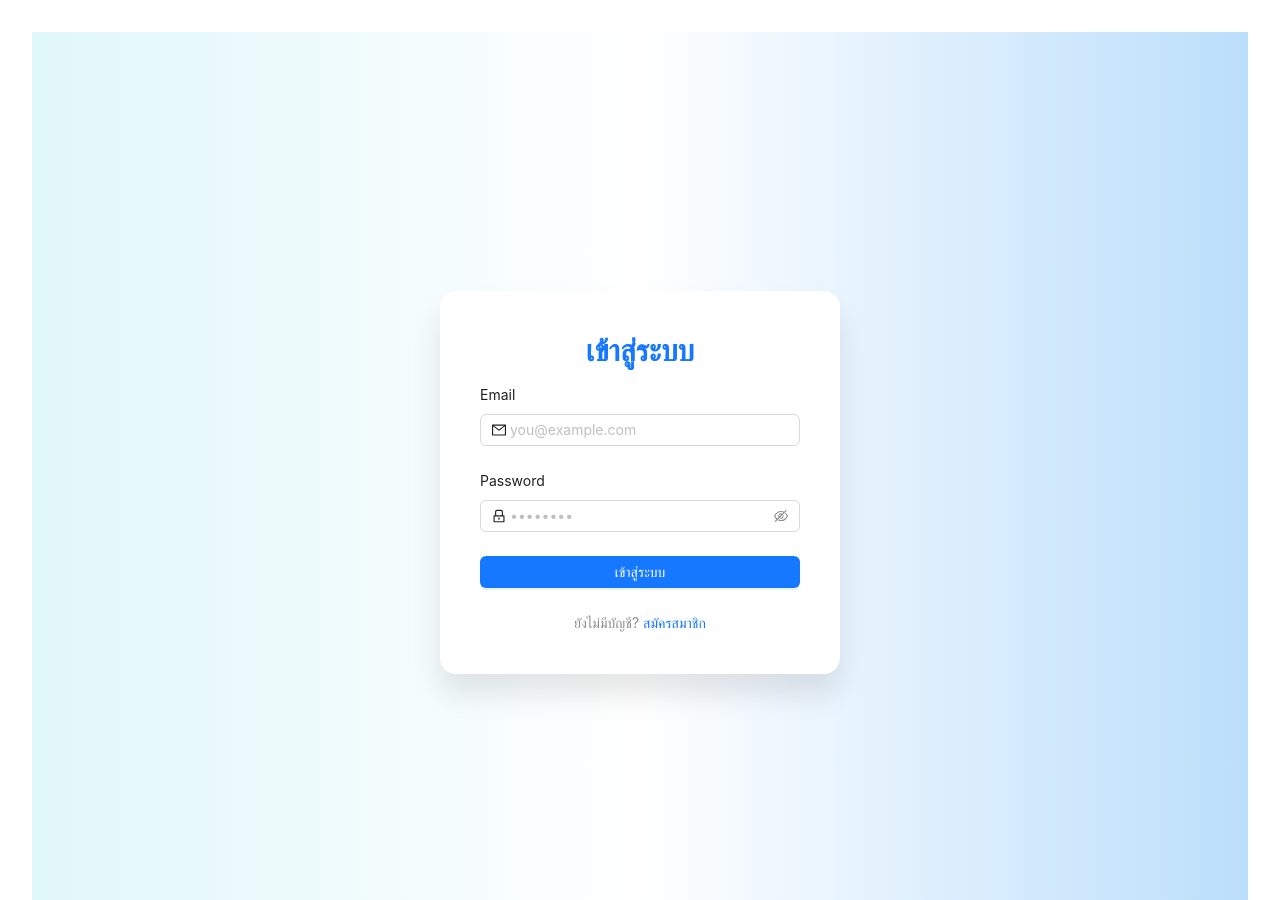
Login Component › shows error for invalid email format
The image size is (1280, 900).
Type "invalid" into the field labelled "Email" at (649, 430), box [510, 418, 788, 440]
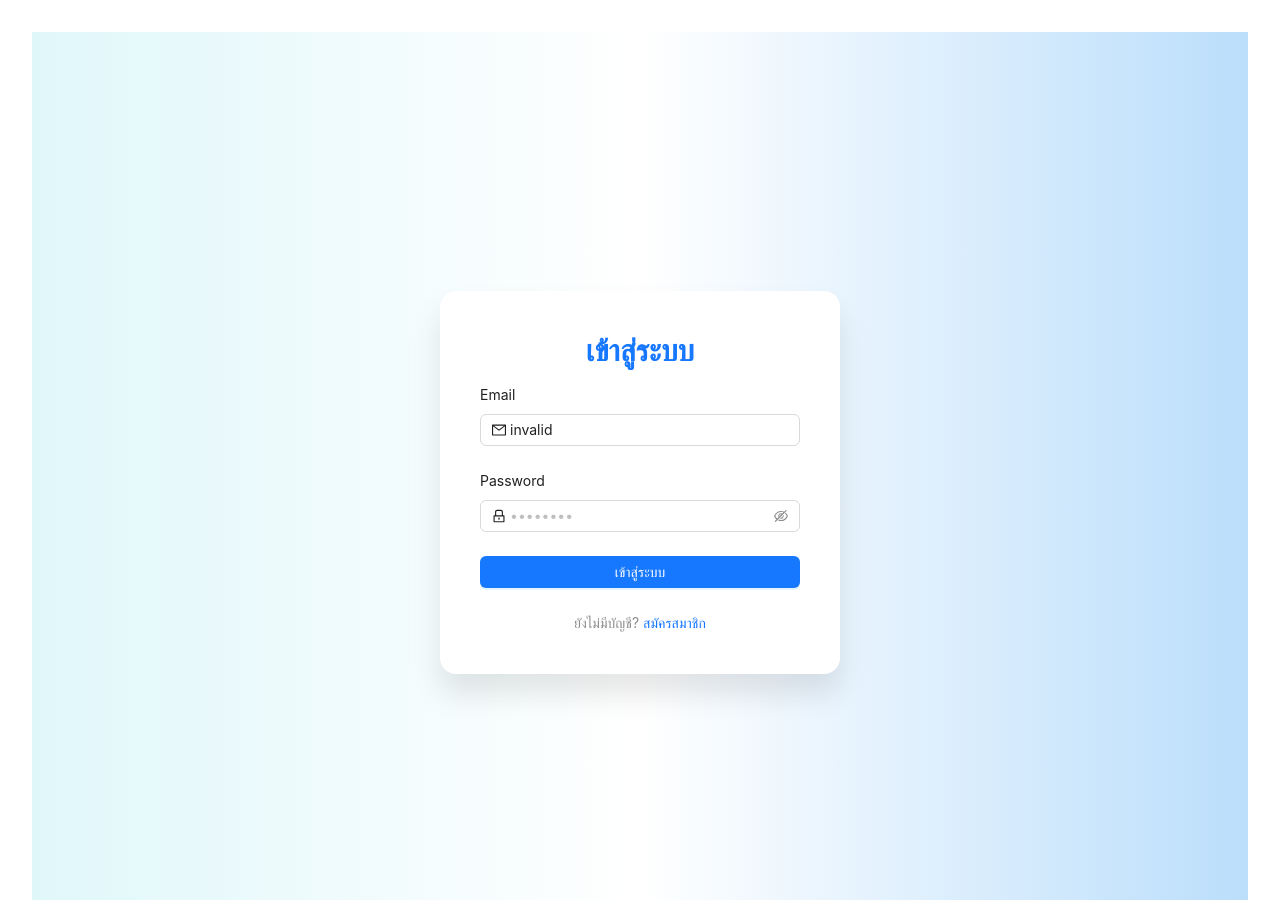
Type "123456" into the password field labelled "Password" at (640, 516), box [510, 504, 770, 526]
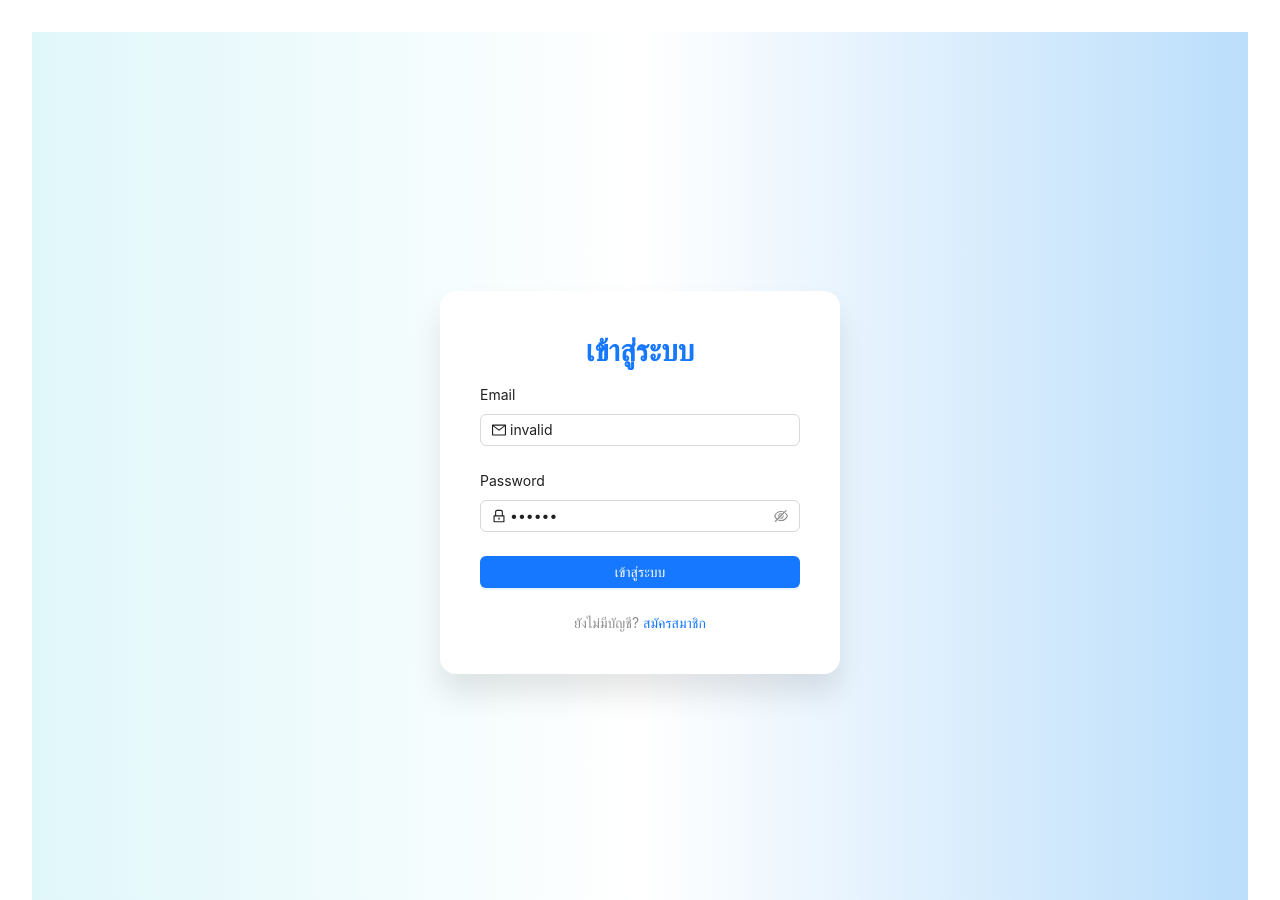
Click the button "เข้าสู่ระบบ" at (640, 572), box [480, 556, 800, 588]
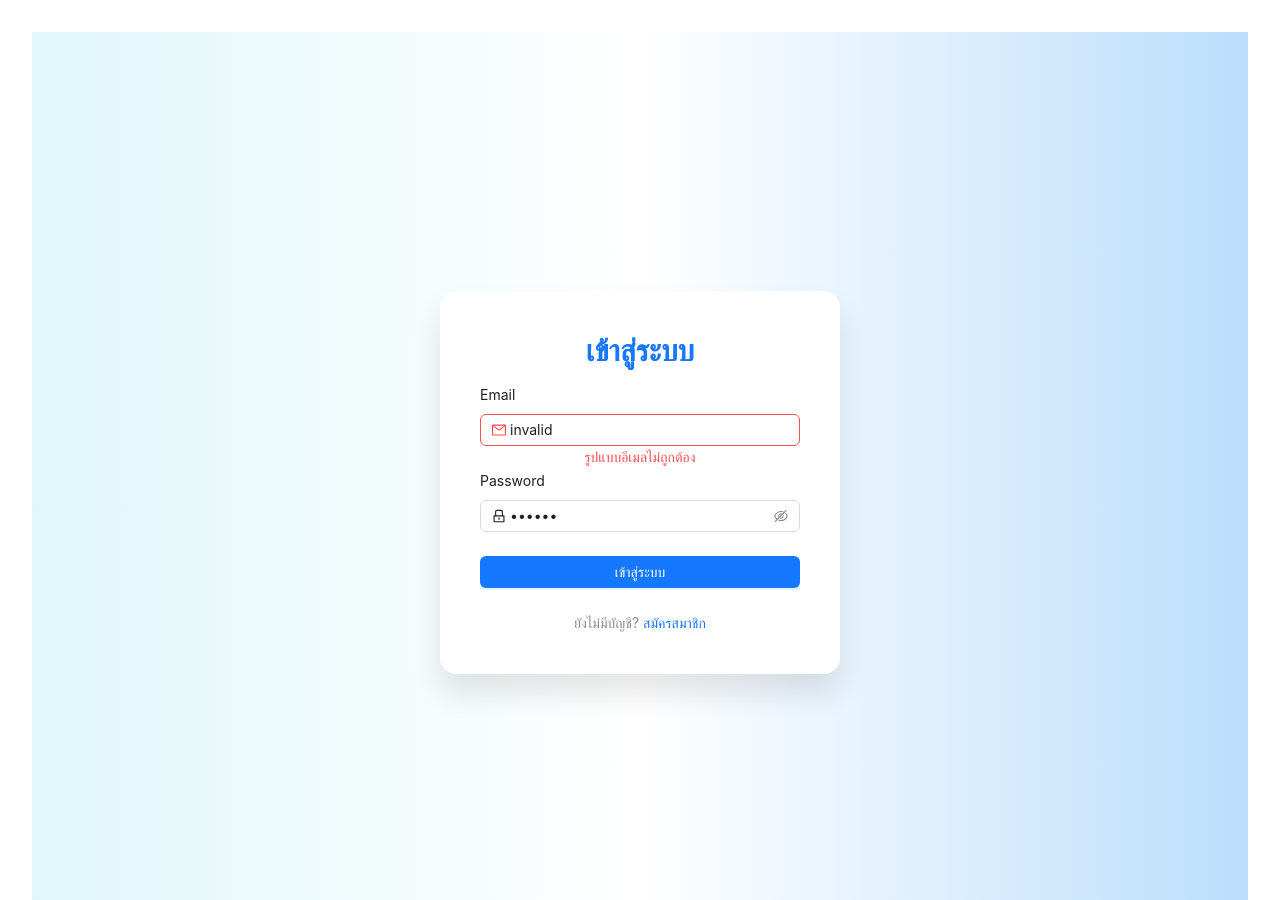
Now the text "รูปแบบอีเมลไม่ถูกต้อง" is shown, box [584, 448, 696, 464]
